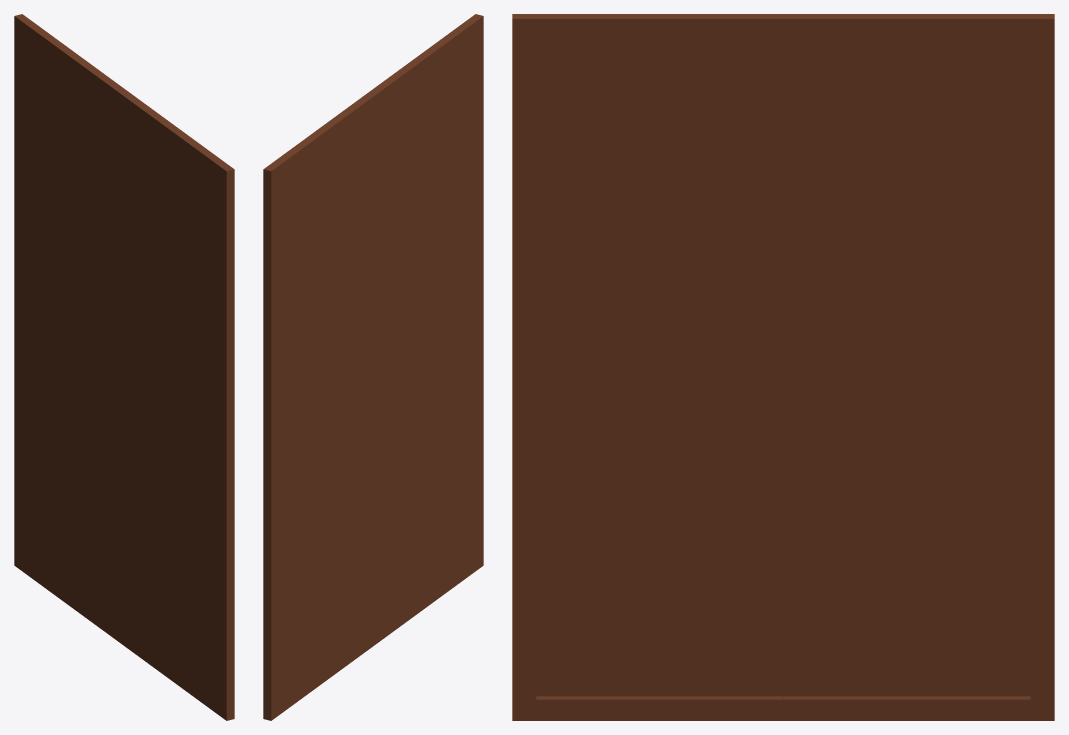
The model's file is PaintingFrame.fbx.
3 renders of one model, left to right at view 1: azimuth 30°, elevation 25°; view 2: azimuth 150°, elevation 25°; view 3: azimuth 270°, elevation 25°, orthographic. The views are drawn at different scales.
Visible parts, largest first — view 1: Frame; view 2: Frame; view 3: Frame.
Part boxes in pixels (bbox=[...]): Frame: bbox=[14, 14, 234, 720]; Frame: bbox=[263, 14, 483, 720]; Frame: bbox=[512, 14, 1054, 720].
Size of the model in its own units: 4.36 by 286 by 200.
